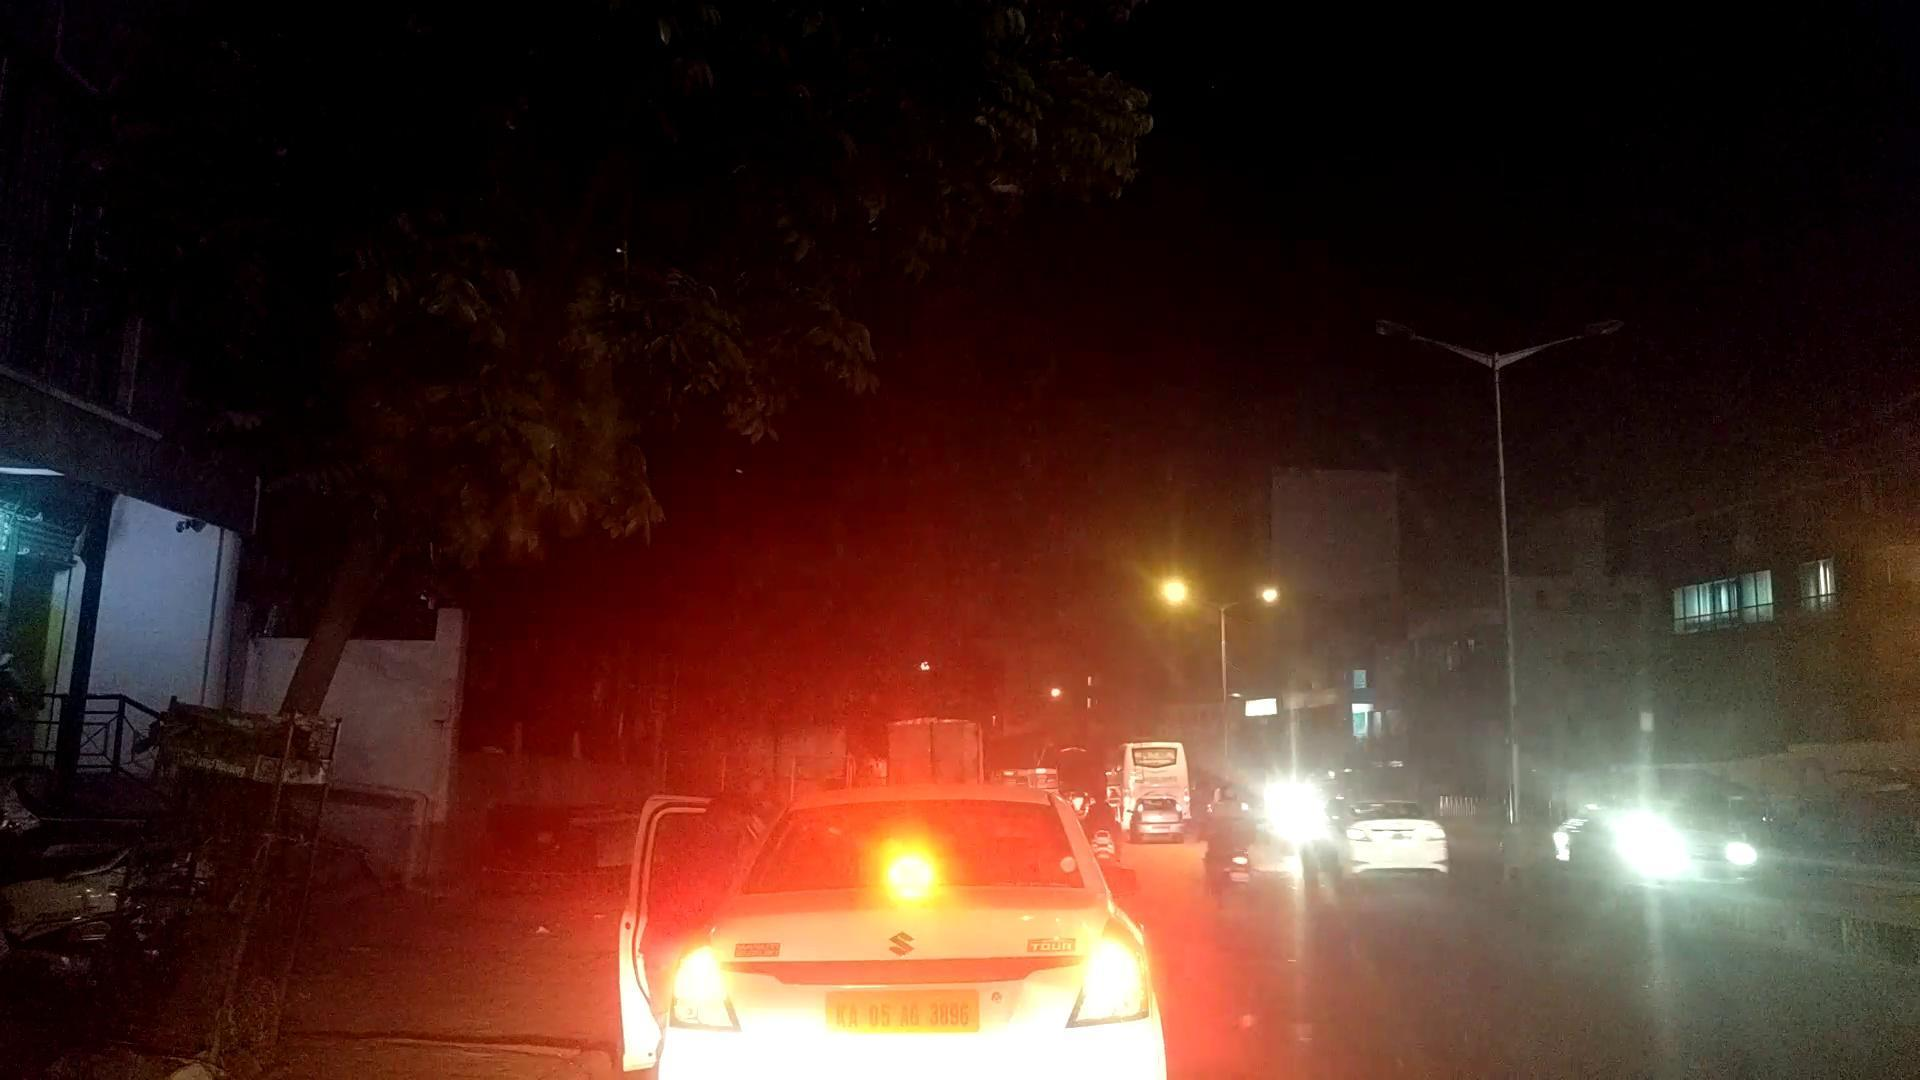on: (1040, 682, 1830, 1004)
